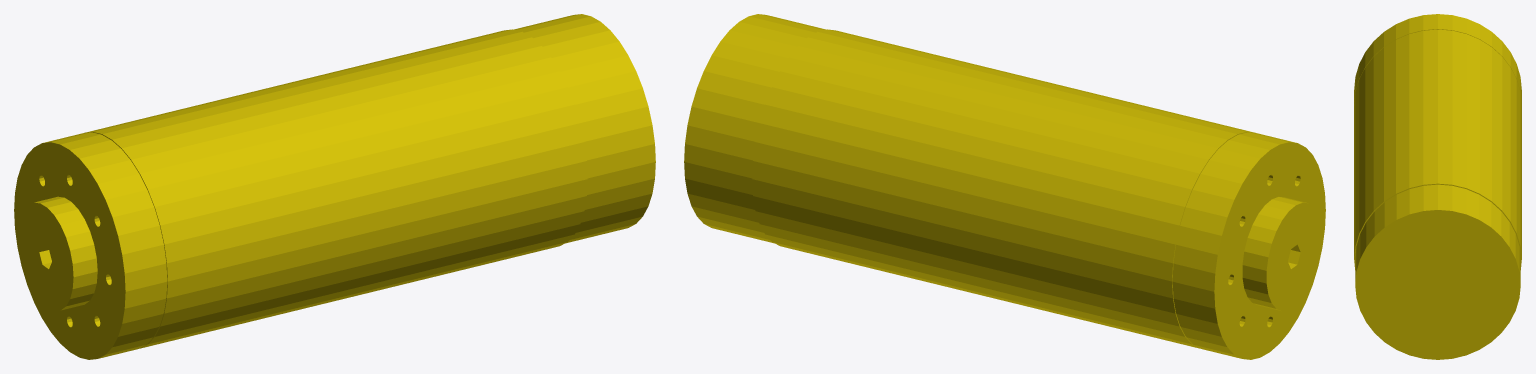
3 views of the same model, side by side, from view 1: azimuth 30°, elevation 25°; view 2: azimuth 150°, elevation 25°; view 3: azimuth 270°, elevation 25° (orthographic). The views are drawn at different scales.
Visible parts, largest first — view 1: DT6Z2-89; view 2: DT6Z2-89; view 3: DT6Z2-89.
Boxes of the visible parts, bbox=[...] form: DT6Z2-89: bbox=[14, 14, 655, 359]; DT6Z2-89: bbox=[684, 14, 1325, 359]; DT6Z2-89: bbox=[1354, 14, 1521, 359].
Bounding box in the file's own units: 0.23 × 0.08 × 0.08.
